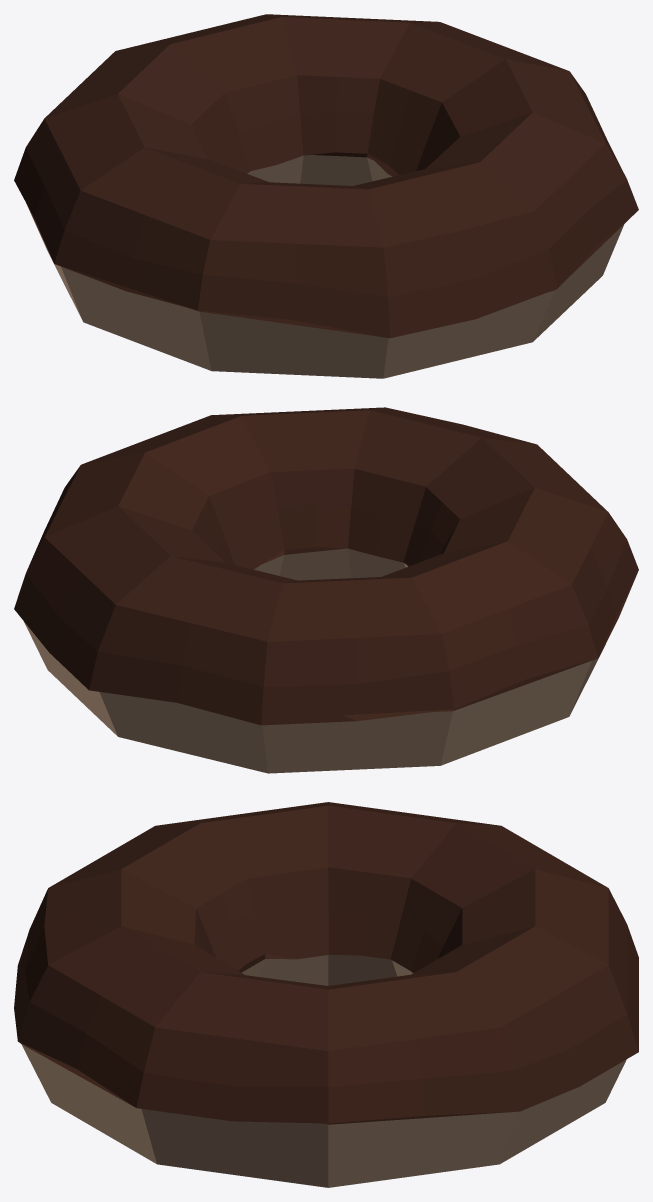
The model's file is 3DMODELS_Props_Food_ChocolateDonut01.fbx.
3 views of the same model, one above another, from view 1: azimuth 30°, elevation 25°; view 2: azimuth 150°, elevation 25°; view 3: azimuth 270°, elevation 25° (orthographic). The views are drawn at different scales.
Parts seen in each view (by area): view 1: pTorus1; view 2: pTorus1; view 3: pTorus1.
Part boxes in pixels (left/top/right/bottom): pTorus1: left=14, top=14, right=638, bottom=378; pTorus1: left=14, top=407, right=638, bottom=773; pTorus1: left=14, top=802, right=638, bottom=1187.
Bounding box in the file's own units: 3.03 × 0.8563 × 2.9.
